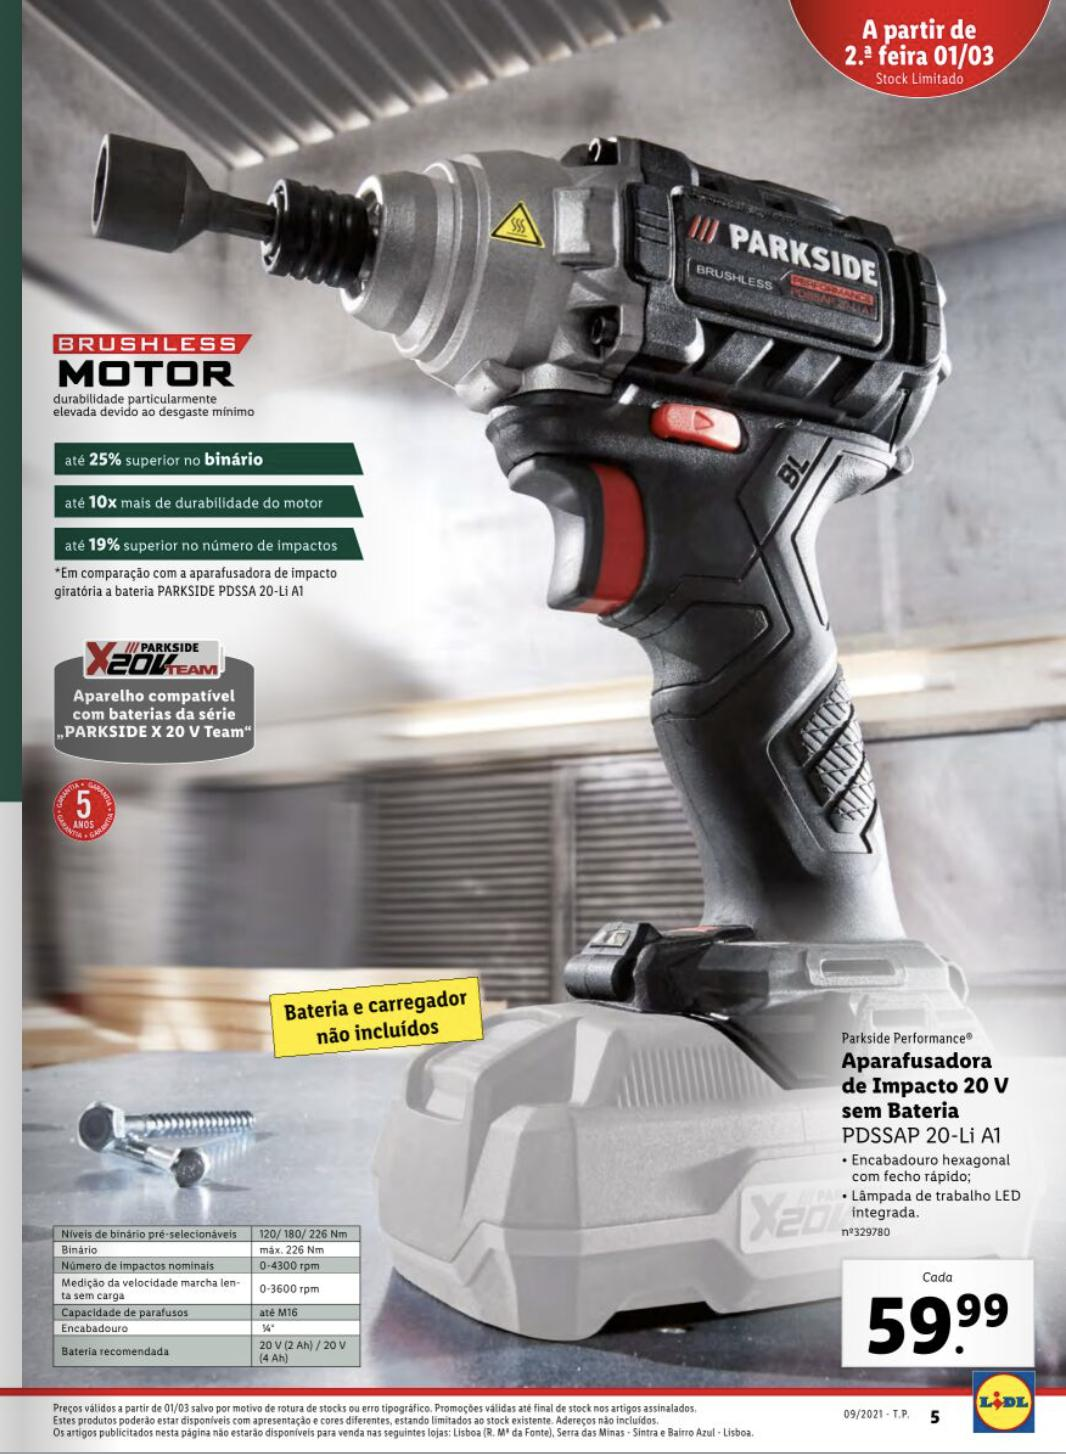name: (831, 1048, 1013, 1122)
price: (860, 1291, 1023, 1359)
product: (9, 110, 1065, 1384)
